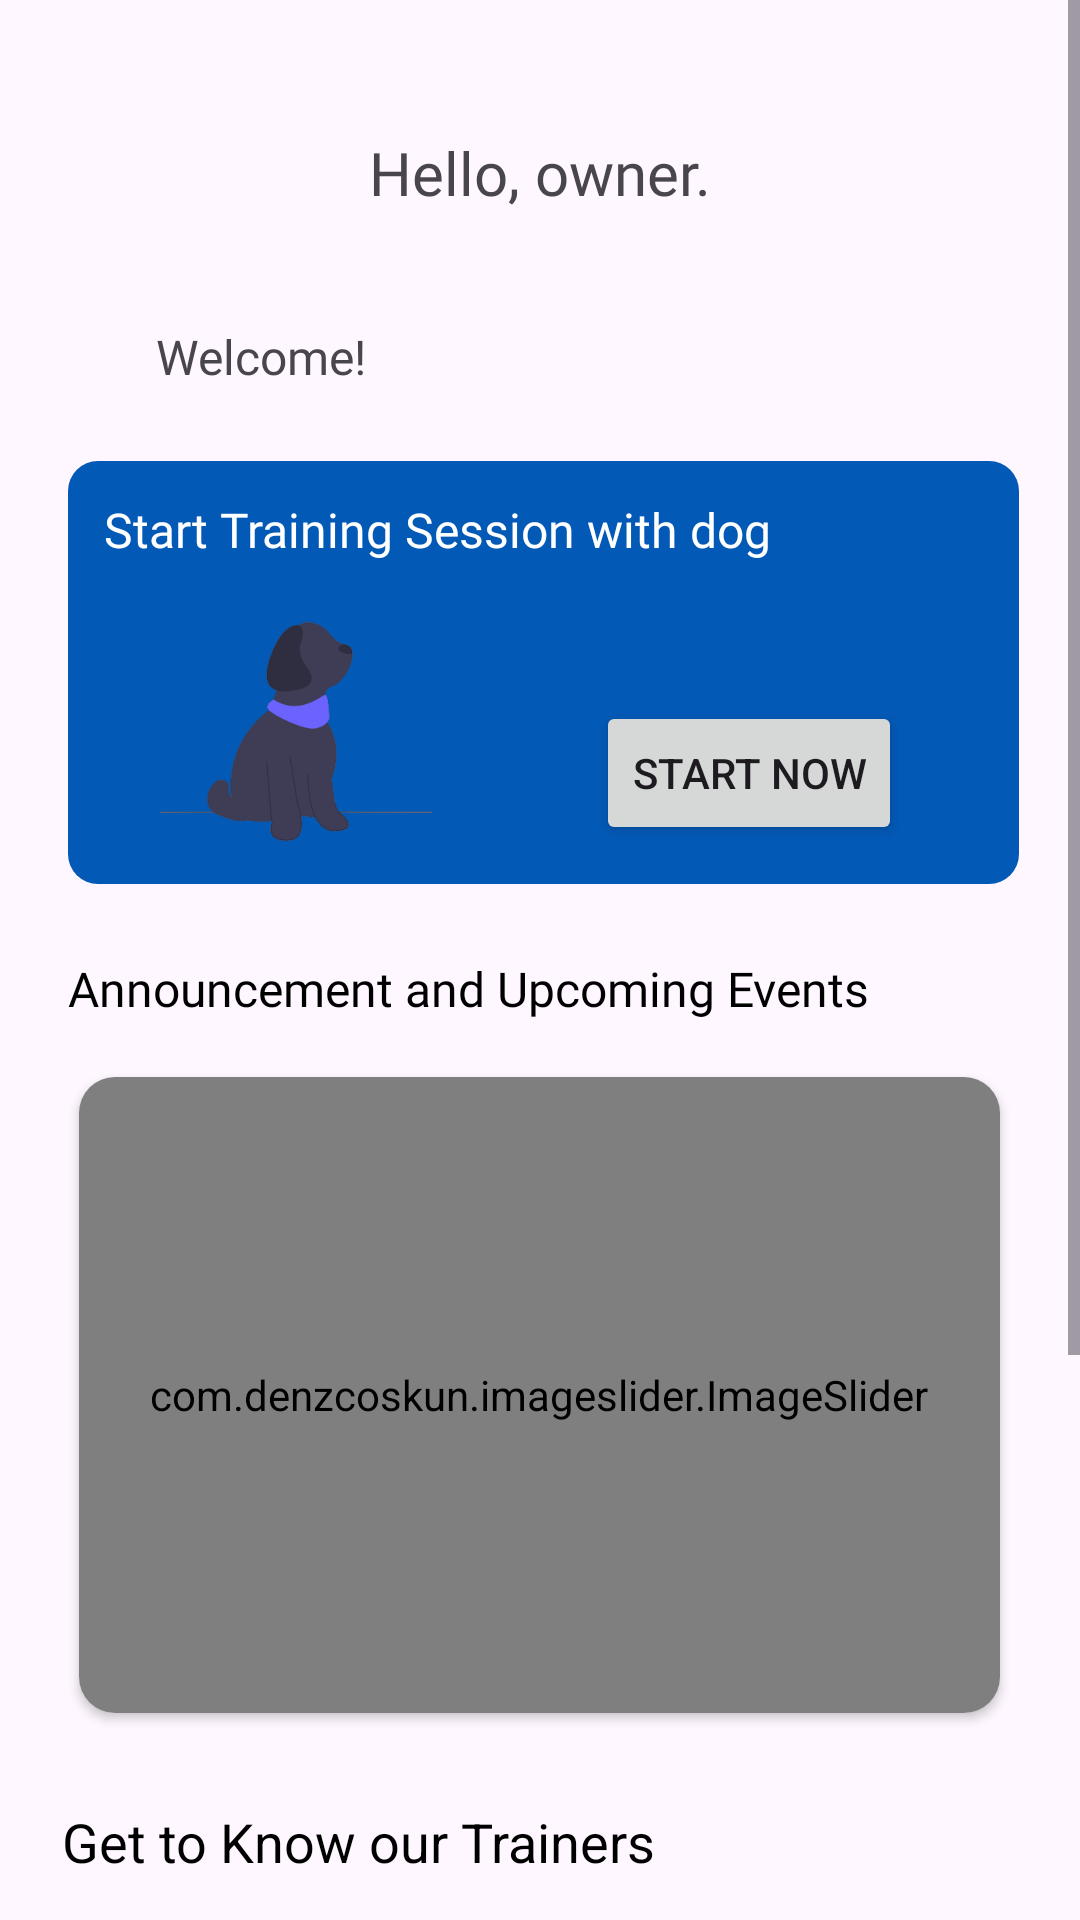

Icons on this 1080px×1920px Android screen, each with its box as BBox(x1, y1, x2, y2):
undrawdog: BBox(160, 622, 432, 841)
